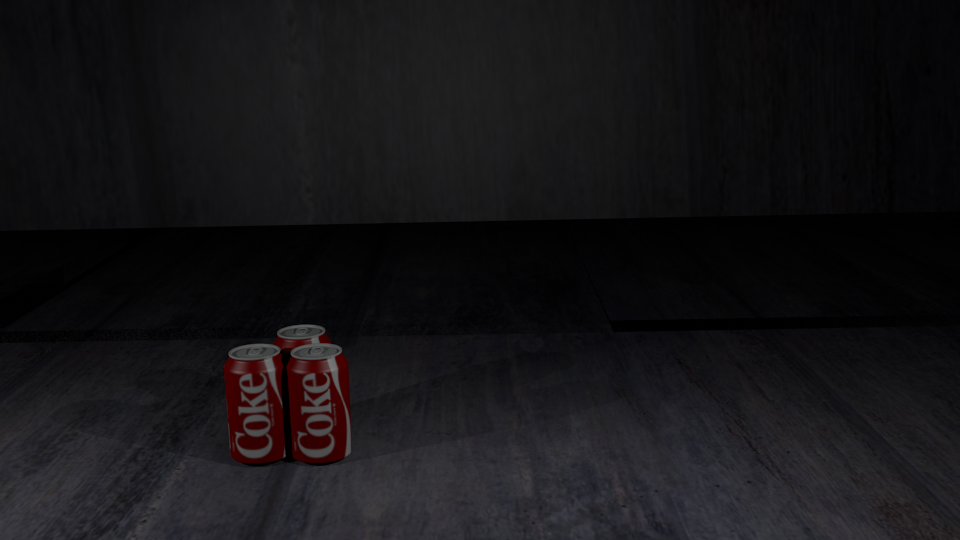cola_can: (224, 344, 288, 460), (286, 344, 350, 459), (273, 325, 330, 435)
